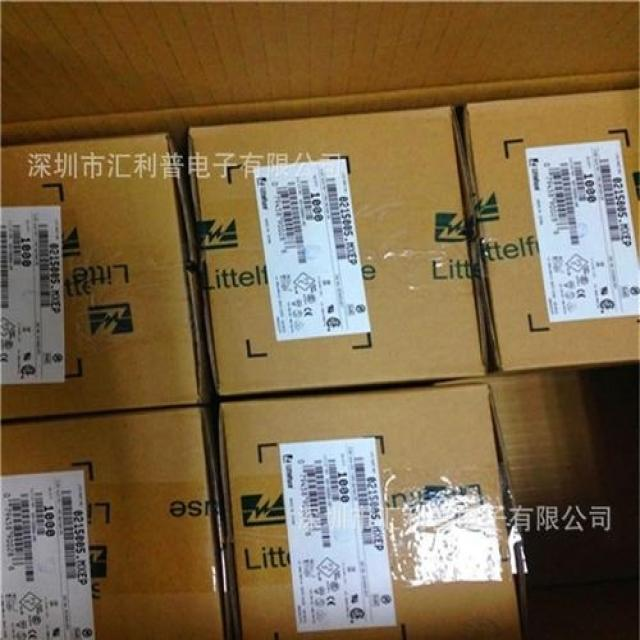box: (186, 104, 489, 398), (219, 380, 524, 640), (0, 131, 206, 421), (0, 405, 228, 640), (463, 86, 640, 373)
